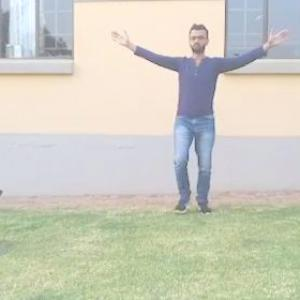takeoff: (110, 20, 283, 215)
